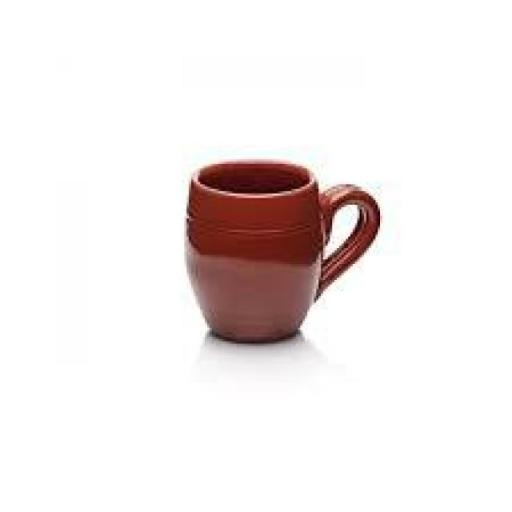glass: (164, 144, 392, 354)
